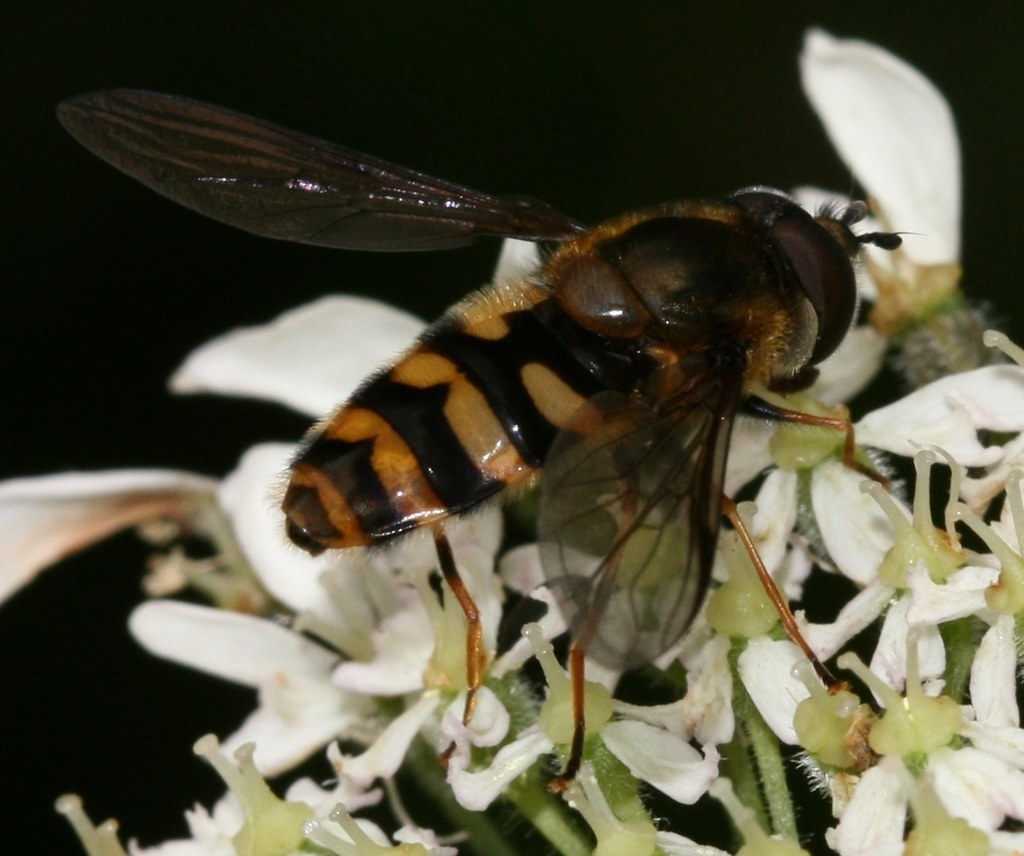bee: (47, 76, 912, 787)
insect: (0, 19, 1023, 855)
